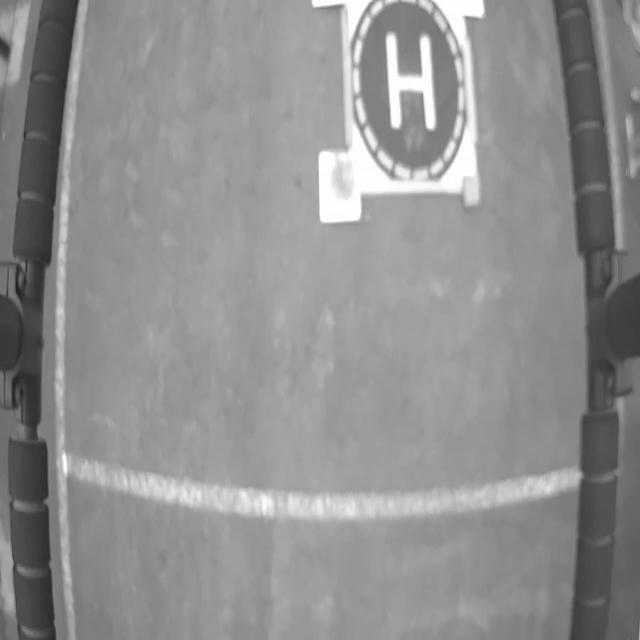Helipad: (386, 30, 437, 135)
